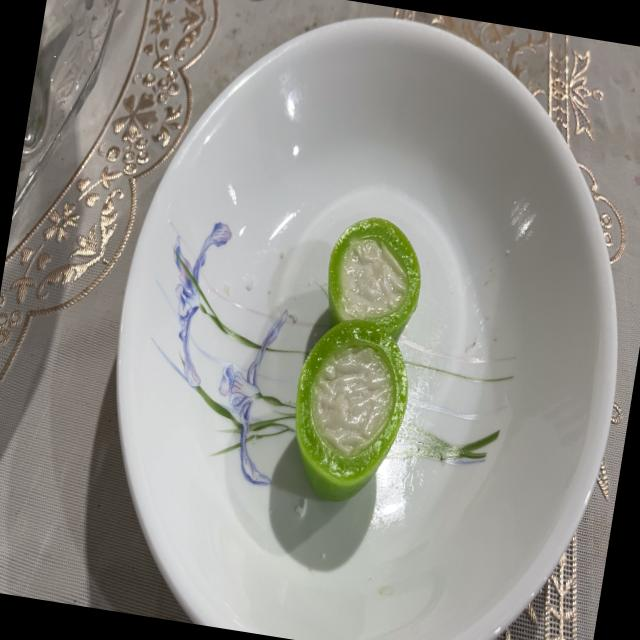nona-manis: (295, 321, 408, 501), (328, 218, 421, 341)
